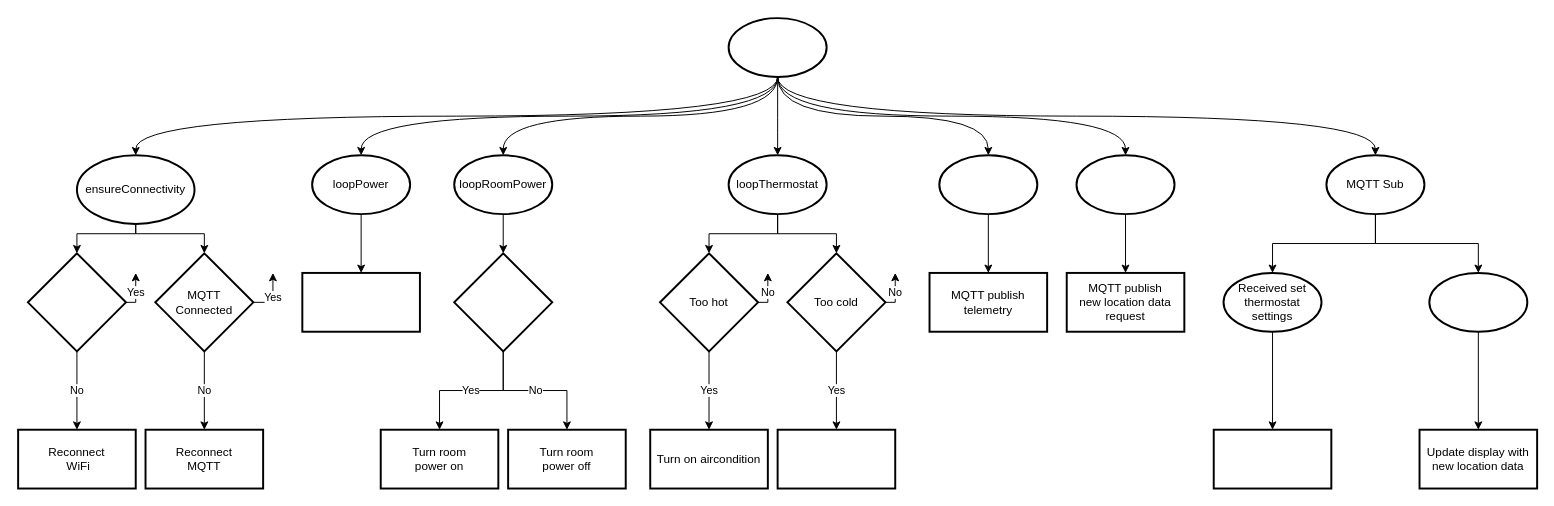
Some shapes in this 1554 by 506 pixel diagram are drawn without their labels. Each missing label, with the box of its shape:
Is the room currently booked: (453, 252, 553, 352)
loopDisplay: (1075, 154, 1175, 215)
loopTelemetry: (938, 154, 1038, 215)
Main loop: (727, 17, 827, 77)
Received new location data: (1428, 271, 1528, 332)
Record power usage: (301, 271, 420, 332)
Set thermostat settings: (1212, 428, 1332, 489)
Turn on heater: (776, 428, 896, 489)
Wifi Connected: (26, 252, 126, 352)
